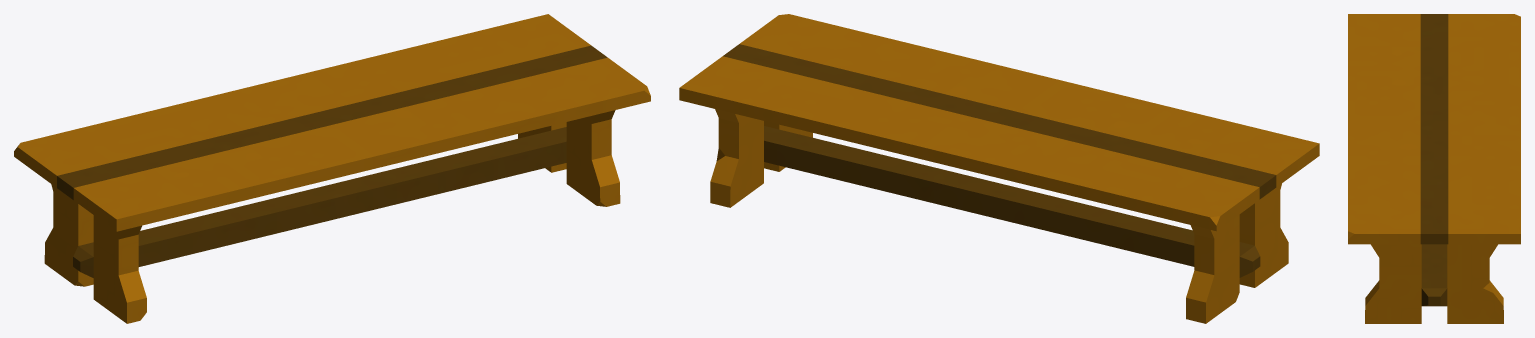
File: Table_4_Big.fbx
3 renders of one model, left to right at view 1: azimuth 30°, elevation 25°; view 2: azimuth 150°, elevation 25°; view 3: azimuth 270°, elevation 25°, orthographic. The views are drawn at different scales.
Visible parts, largest first — view 1: Table 4_Big; view 2: Table 4_Big; view 3: Table 4_Big.
Part boxes in pixels (box(x1,y1,x2,y2)): Table 4_Big: box(14, 14, 650, 323); Table 4_Big: box(679, 14, 1319, 323); Table 4_Big: box(1348, 14, 1520, 323).
Bounding box in the file's own units: 462 × 96.7 × 154.
